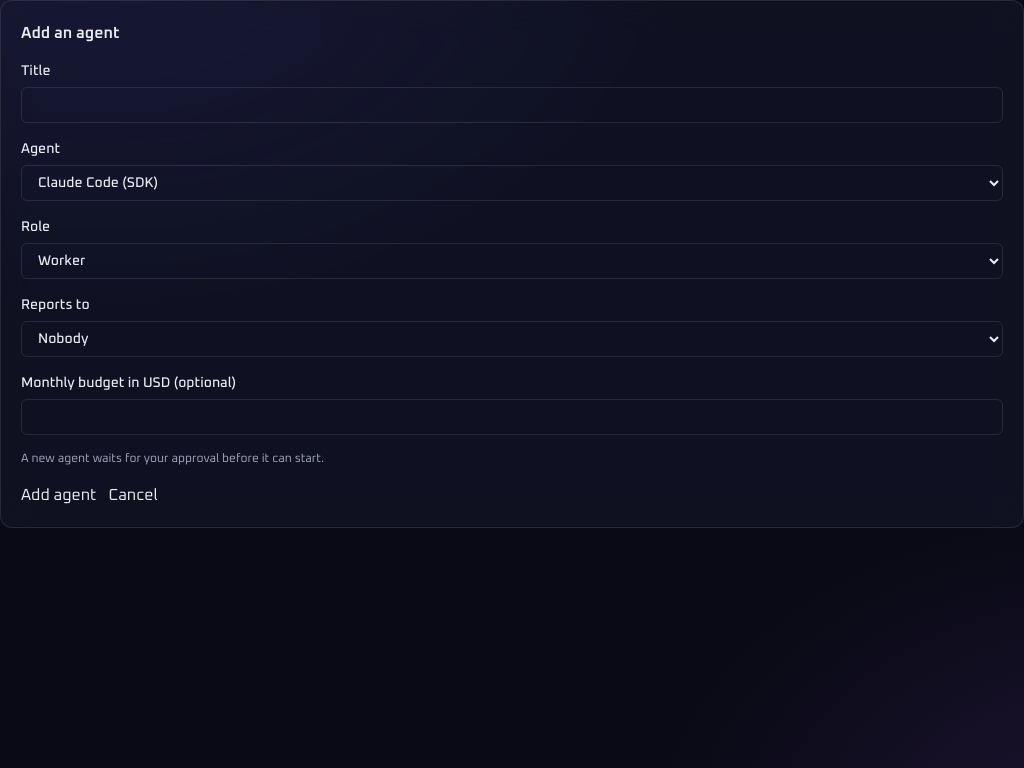
Test: AddAgentForm › explains a refusal in words and keeps the form
In the field named "title": coordinates (512, 105) [21, 87, 1003, 123], type "Coder"
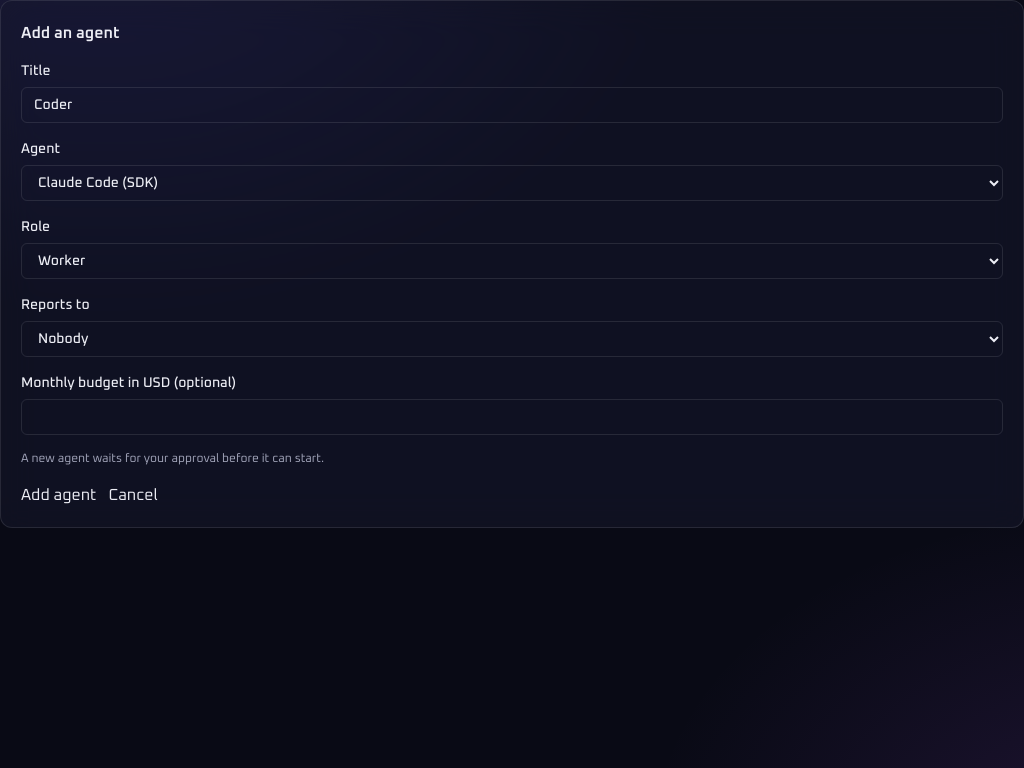
Submit the form
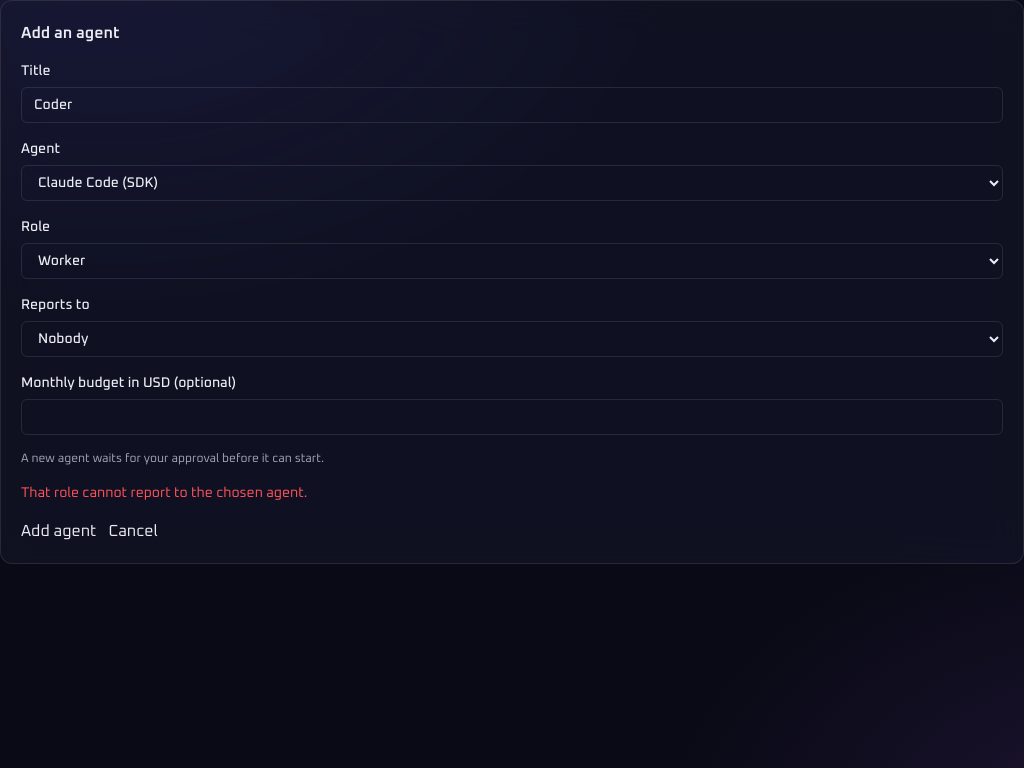
Result: the message with test id "form-error" reads "That role cannot report to the chosen agent." at [21, 486, 307, 500]
